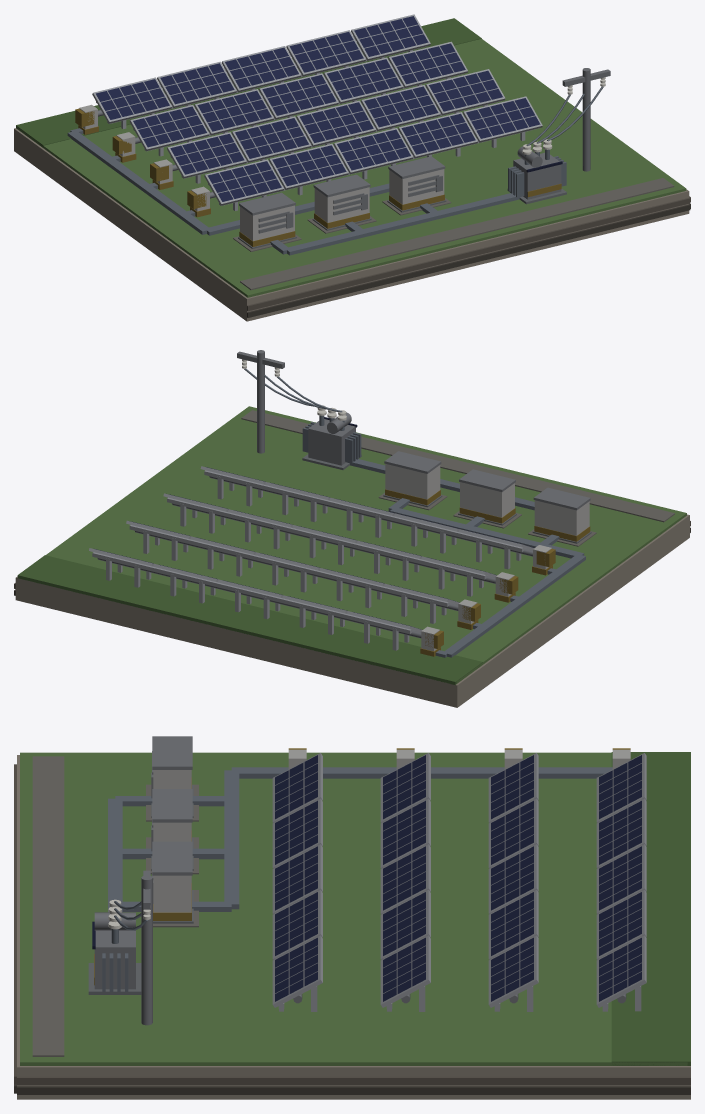
Rendered from solar_farm_lvl3.glb.
3 views of the same model, one above another, from view 1: azimuth 30°, elevation 25°; view 2: azimuth 150°, elevation 25°; view 3: azimuth 270°, elevation 25° (orthographic). The views are drawn at different scales.
Parts seen in each view (by area): view 1: solar_farm; view 2: solar_farm; view 3: solar_farm.
Part boxes in pixels (left/top/right/bottom): solar_farm: left=14, top=14, right=690, bottom=321; solar_farm: left=14, top=350, right=690, bottom=707; solar_farm: left=14, top=736, right=690, bottom=1099.
Bounding box in the file's own units: 1 × 0.2697 × 0.9127.
